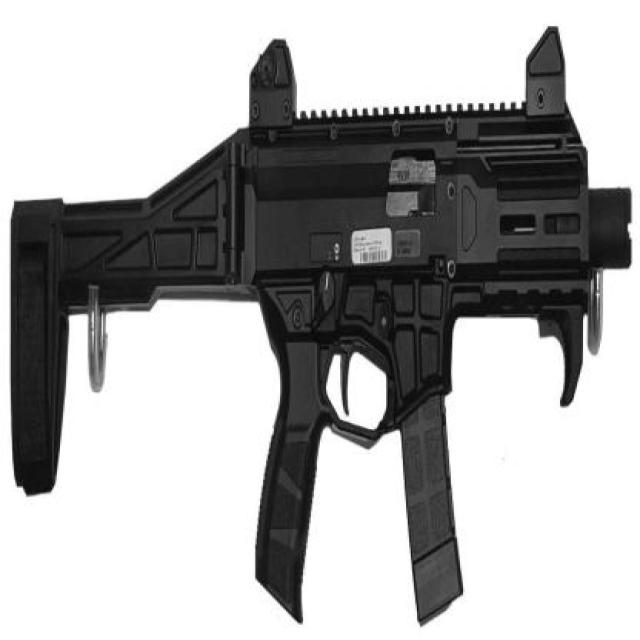weapon: (9, 24, 631, 630)
